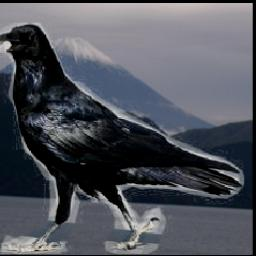Crow: (0, 24, 244, 255)
